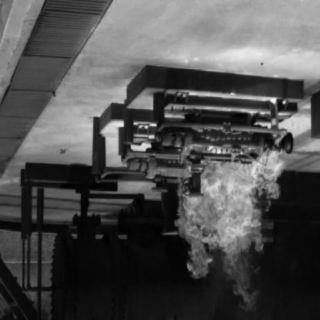Fire: (170, 132, 288, 312)
